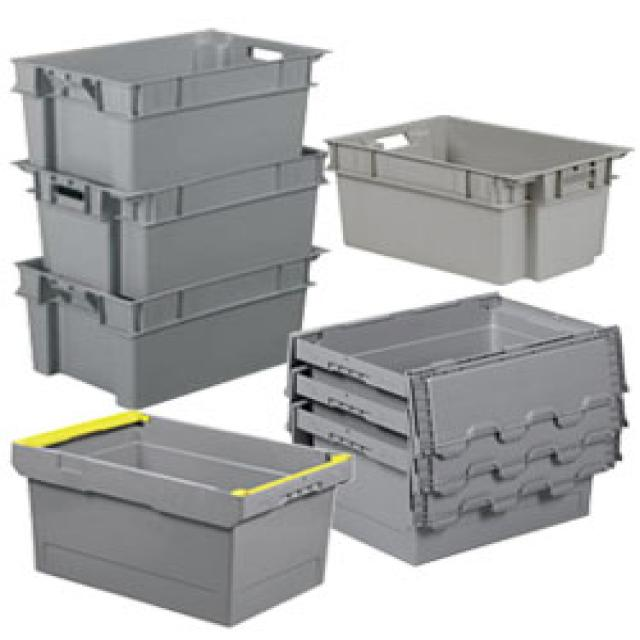basket: (0, 390, 357, 640), (309, 95, 628, 299), (19, 115, 340, 313), (18, 247, 316, 414)
